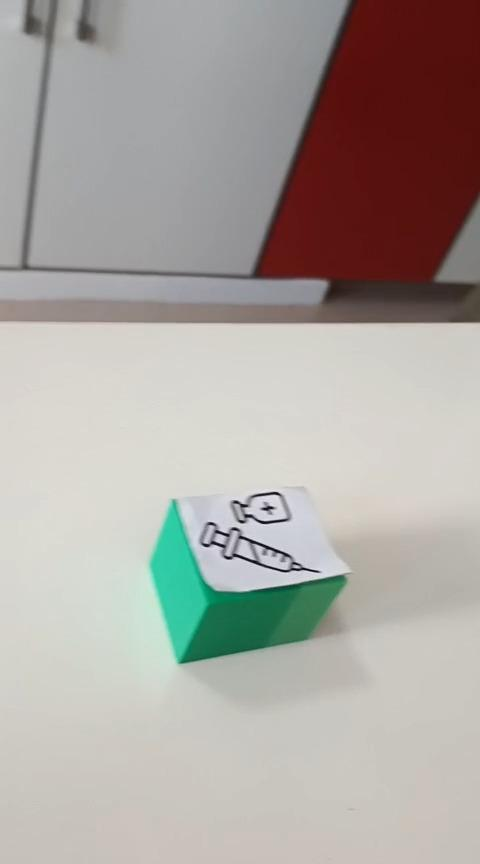antiseptic cream: (148, 484, 353, 664)
